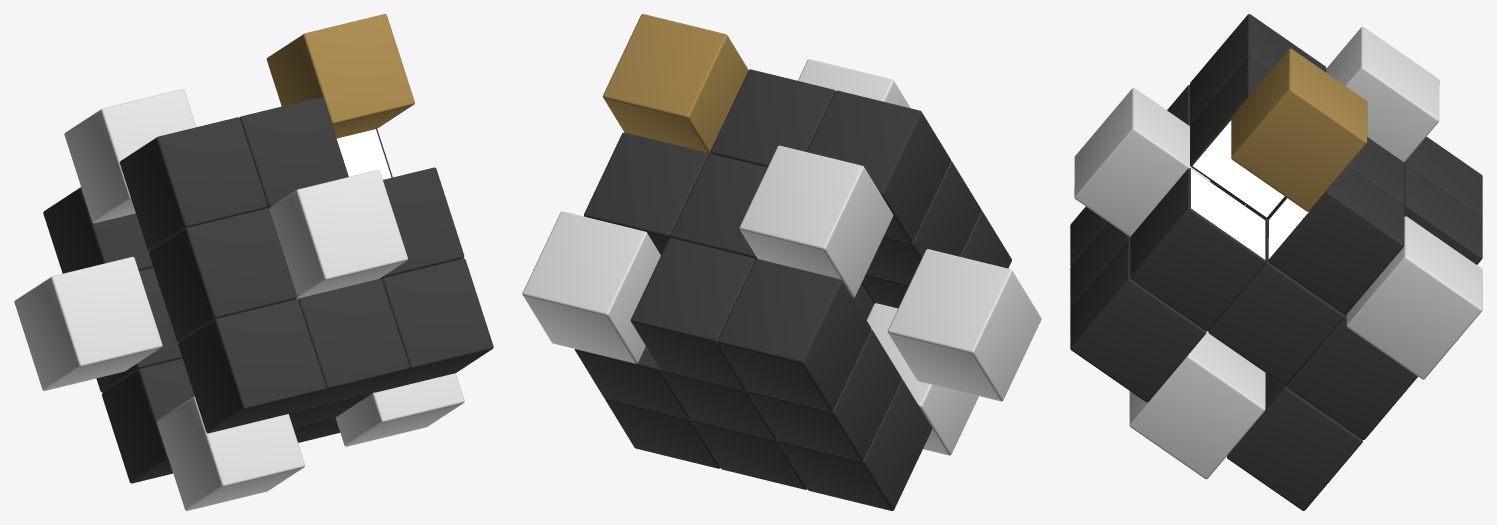
The model's file is modelDraco7.gltf.
The picture shows the model from 3 angles, left to right: view 1: azimuth 30°, elevation 25°; view 2: azimuth 150°, elevation 25°; view 3: azimuth 270°, elevation 25°; orthographic projection. The views are drawn at different scales.
Parts seen in each view (by area): view 1: ChamferBox184, ChamferBox187, ChamferBox183, ChamferBox182, ChamferBox185, ChamferBox188, ChamferBox186, Group60444; view 2: ChamferBox184, ChamferBox187, ChamferBox188, ChamferBox189, ChamferBox182, ChamferBox185, ChamferBox183; view 3: ChamferBox184, ChamferBox182, ChamferBox189, ChamferBox186, ChamferBox183, ChamferBox188, Group60444.
Part boxes in pixels (x1=…): ChamferBox184: x1=43, y1=97, x2=493, y2=483; ChamferBox187: x1=14, y1=256, x2=162, y2=390; ChamferBox183: x1=268, y1=170, x2=407, y2=299; ChamferBox182: x1=266, y1=14, x2=414, y2=138; ChamferBox185: x1=157, y1=396, x2=305, y2=510; ChamferBox188: x1=64, y1=89, x2=196, y2=223; ChamferBox186: x1=335, y1=373, x2=464, y2=446; Group60444: x1=337, y1=129, x2=391, y2=179; ChamferBox184: x1=574, y1=69, x2=1011, y2=510; ChamferBox187: x1=887, y1=249, x2=1041, y2=401; ChamferBox188: x1=739, y1=145, x2=893, y2=297; ChamferBox189: x1=522, y1=211, x2=660, y2=363; ChamferBox182: x1=602, y1=14, x2=748, y2=153; ChamferBox185: x1=866, y1=303, x2=978, y2=455; ChamferBox183: x1=798, y1=59, x2=910, y2=108; ChamferBox184: x1=1070, y1=14, x2=1482, y2=510; ChamferBox182: x1=1231, y1=48, x2=1367, y2=211; ChamferBox189: x1=1346, y1=216, x2=1482, y2=379; ChamferBox186: x1=1129, y1=331, x2=1265, y2=479; ChamferBox183: x1=1074, y1=88, x2=1210, y2=236; ChamferBox188: x1=1326, y1=27, x2=1439, y2=162; Group60444: x1=1191, y1=120, x2=1308, y2=259.
Bounding box in the file's own units: 192 × 206 × 182.
